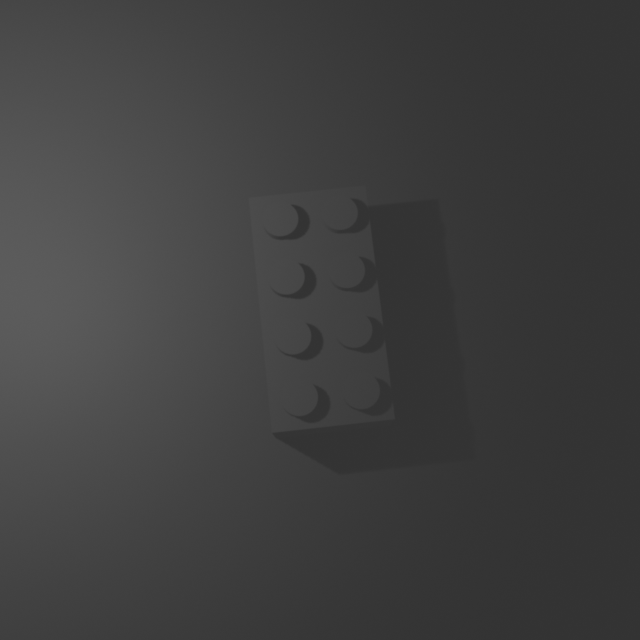lego_2x4: (248, 181, 396, 438)
